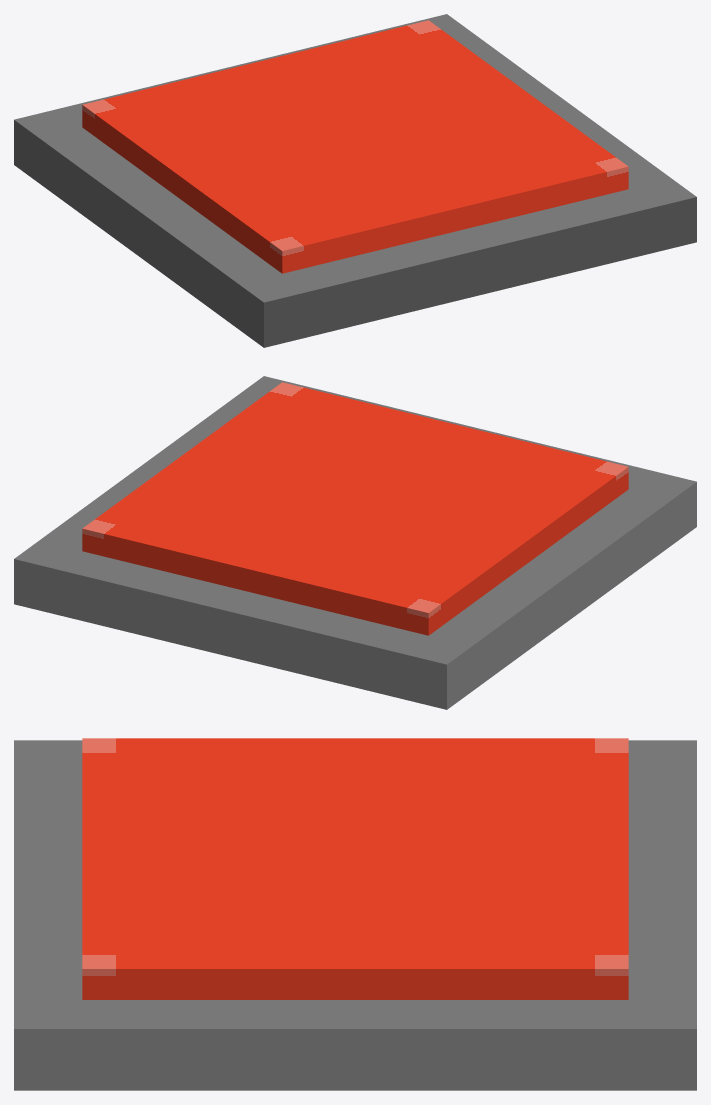
The model's file is button-1.fbx.
3 views of the same model, one above another, from view 1: azimuth 30°, elevation 25°; view 2: azimuth 150°, elevation 25°; view 3: azimuth 270°, elevation 25° (orthographic). The views are drawn at different scales.
Parts seen in each view (by area): view 1: cube_4, cube_3, cube_1, cube, cube_2; view 2: cube_4, cube_2, cube_1, cube, cube_3; view 3: cube_4, cube, cube_2, cube_3, cube_1.
Part boxes in pixels (left/top/right/bottom): cube_4: left=82, top=20, right=628, bottom=273; cube_3: left=282, top=189, right=653, bottom=337; cube_1: left=14, top=109, right=307, bottom=347; cube: left=404, top=14, right=696, bottom=252; cube_2: left=57, top=24, right=404, bottom=126; cube_4: left=82, top=382, right=628, bottom=635; cube_2: left=57, top=551, right=428, bottom=699; cube_1: left=403, top=471, right=696, bottom=709; cube: left=14, top=376, right=306, bottom=614; cube_3: left=306, top=386, right=653, bottom=488; cube_4: left=82, top=738, right=628, bottom=999; cube: left=14, top=1000, right=696, bottom=1090; cube_2: left=628, top=769, right=696, bottom=999; cube_3: left=14, top=769, right=82, bottom=999; cube_1: left=14, top=740, right=696, bottom=768.
Bounding box in the file's own units: 62.5 × 9.38 × 62.5.
